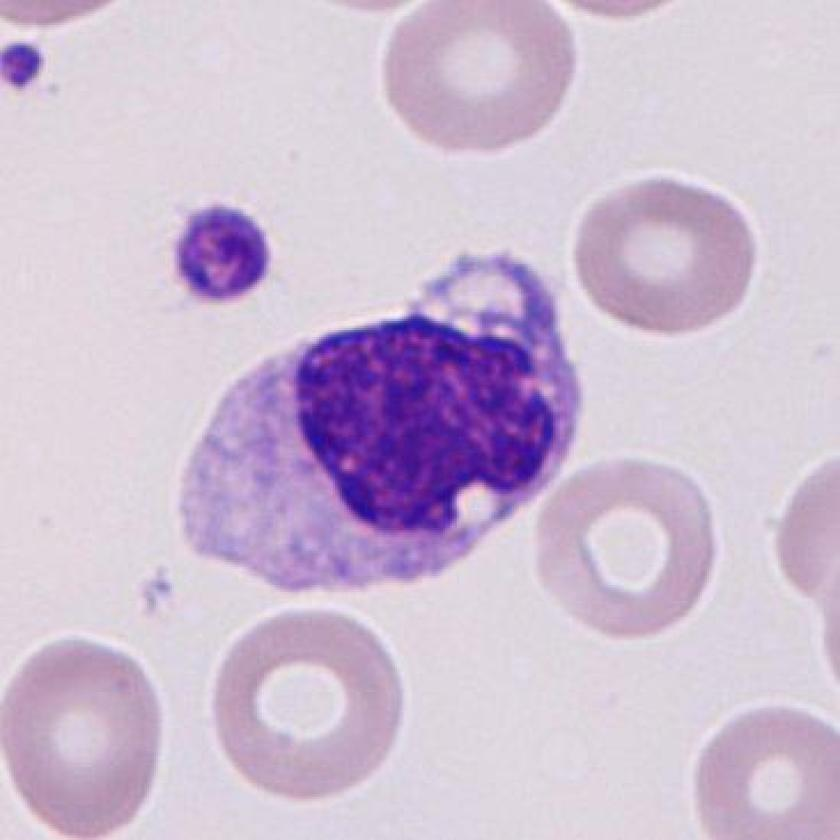monocyte: (164, 227, 598, 639)
